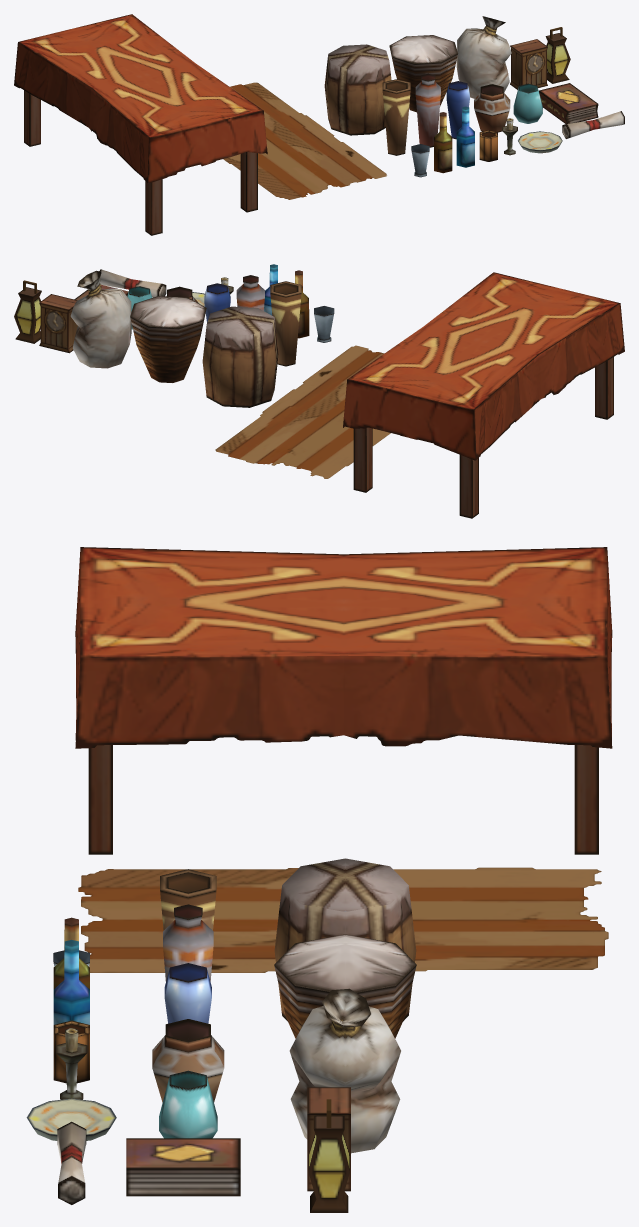
File: 2_Misc_PingGuan_01.FBX
3 views of the same model, one above another, from view 1: azimuth 30°, elevation 25°; view 2: azimuth 150°, elevation 25°; view 3: azimuth 270°, elevation 25° (orthographic). The views are drawn at different scales.
Visible parts, largest first — view 1: 2_Misc_ZhuoZi_01, 2_Misc_DiTan_01, 2_Misc_Tong_01, 2_Misc_DaiZi_01, 2_Misc_Tong_02, 2_Misc_GuanZi_01, 2_Misc_Shu_01, 2_Misc_Zhong_01, 2_Misc_GuanZi_02, 2_Misc_GuanZi_04, 2_Misc_Deng_01, 2_Misc_GuanZi_05 (+8 smaller); view 2: 2_Misc_ZhuoZi_01, 2_Misc_DiTan_01, 2_Misc_Tong_01, 2_Misc_Tong_02, 2_Misc_DaiZi_01, 2_Misc_GuanZi_01, 2_Misc_Zhong_01, 2_Misc_Deng_01, 2_Misc_Shu_02, 2_Misc_GuanZi_02, 2_Misc_GuanZi_03, 2_Misc_GuanZi_06 (+1 smaller); view 3: 2_Misc_ZhuoZi_01, 2_Misc_DiTan_01, 2_Misc_DaiZi_01, 2_Misc_Tong_01, 2_Misc_Tong_02, 2_Misc_Shu_01, 2_Misc_GuanZi_04, 2_Misc_Deng_01, 2_Misc_GuanZi_05, 2_Misc_GuanZi_02, 2_Misc_PanZi_01, 2_Misc_GuanZi_03 (+6 smaller).
Part boxes in pixels (box(x1,y1,x2,y2)): 2_Misc_ZhuoZi_01: box(14, 14, 267, 235); 2_Misc_DiTan_01: box(223, 82, 386, 199); 2_Misc_Tong_01: box(324, 44, 391, 135); 2_Misc_DaiZi_01: box(456, 16, 511, 98); 2_Misc_Tong_02: box(389, 35, 457, 112); 2_Misc_GuanZi_01: box(382, 79, 410, 155); 2_Misc_Shu_01: box(539, 83, 598, 123); 2_Misc_Zhong_01: box(510, 39, 547, 89); 2_Misc_GuanZi_02: box(415, 73, 440, 147); 2_Misc_GuanZi_04: box(474, 84, 510, 132); 2_Misc_Deng_01: box(545, 27, 570, 83); 2_Misc_GuanZi_05: box(513, 83, 542, 123); 2_Misc_ZhuoZi_01: box(343, 272, 624, 518); 2_Misc_DiTan_01: box(215, 345, 390, 478); 2_Misc_Tong_01: box(202, 306, 278, 407); 2_Misc_Tong_02: box(130, 296, 206, 382); 2_Misc_DaiZi_01: box(70, 270, 131, 368); 2_Misc_GuanZi_01: box(270, 281, 301, 366); 2_Misc_Zhong_01: box(39, 294, 77, 353); 2_Misc_Deng_01: box(14, 280, 41, 343); 2_Misc_Shu_02: box(99, 269, 166, 297); 2_Misc_GuanZi_02: box(236, 275, 264, 310); 2_Misc_GuanZi_03: box(204, 283, 230, 322); 2_Misc_GuanZi_06: box(314, 306, 334, 342); 2_Misc_ZhuoZi_01: box(75, 547, 612, 854); 2_Misc_DiTan_01: box(78, 867, 608, 972); 2_Misc_DaiZi_01: box(289, 988, 400, 1153); 2_Misc_Tong_01: box(274, 858, 416, 1021); 2_Misc_Tong_02: box(274, 934, 416, 1038); 2_Misc_Shu_01: box(126, 1138, 240, 1196); 2_Misc_GuanZi_04: box(152, 1019, 224, 1102); 2_Misc_Deng_01: box(308, 1099, 349, 1212); 2_Misc_GuanZi_05: box(159, 1070, 217, 1138); 2_Misc_GuanZi_02: box(163, 904, 213, 981); 2_Misc_PanZi_01: box(26, 1098, 116, 1140); 2_Misc_GuanZi_03: box(164, 963, 211, 1023).
Bounding box in the file's own units: 632 × 130 × 333.
